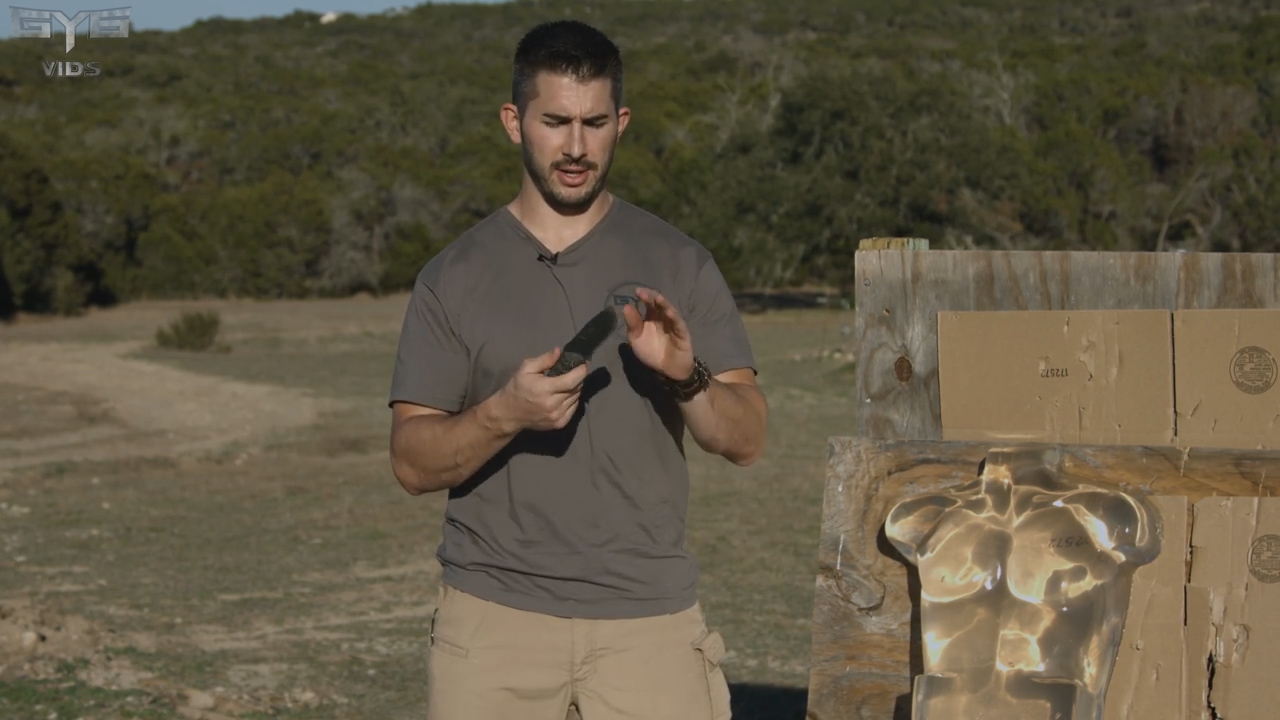knife: (505, 295, 623, 436)
